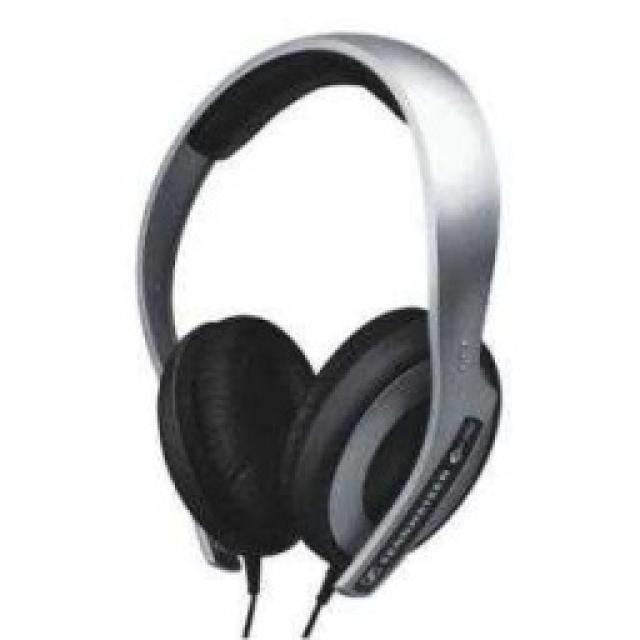headphones: (132, 28, 502, 598)
